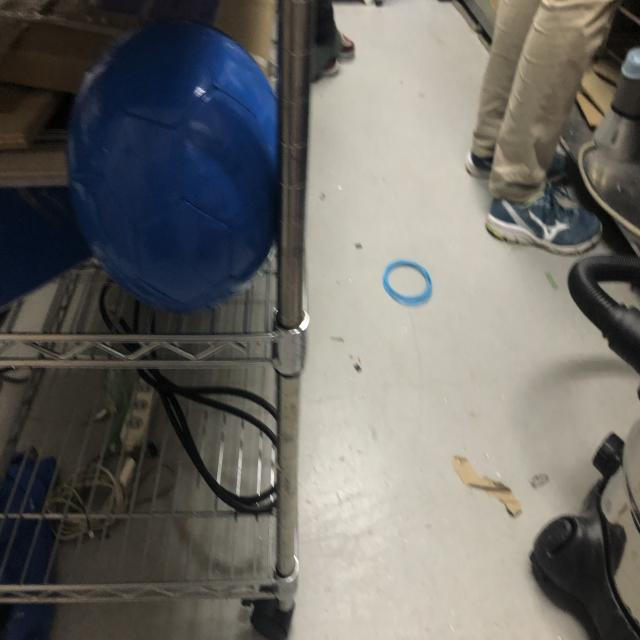blue_ball: (67, 22, 280, 312)
